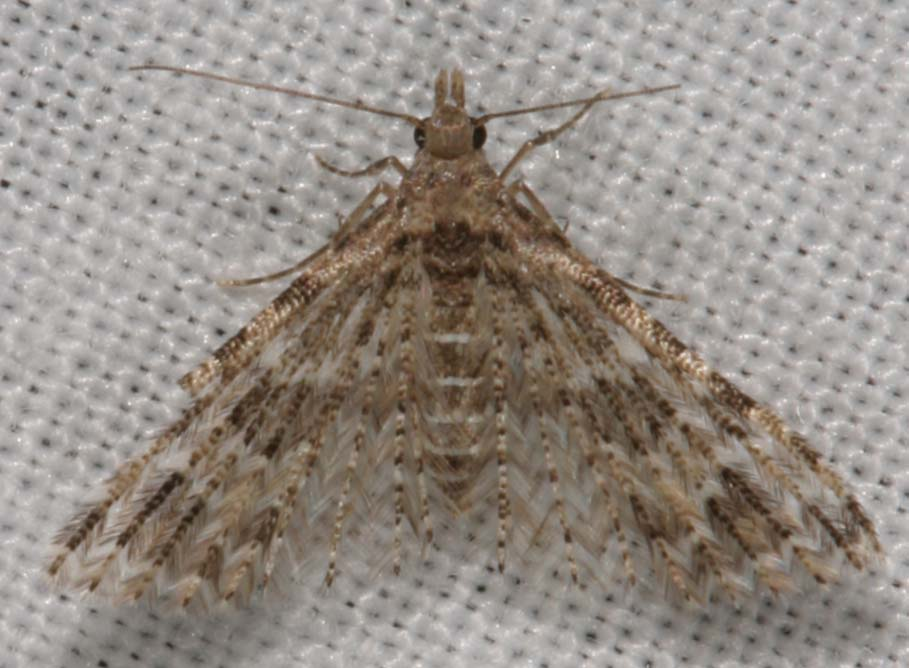Alucitidae: (34, 48, 884, 603)
moth: (32, 46, 882, 601)
